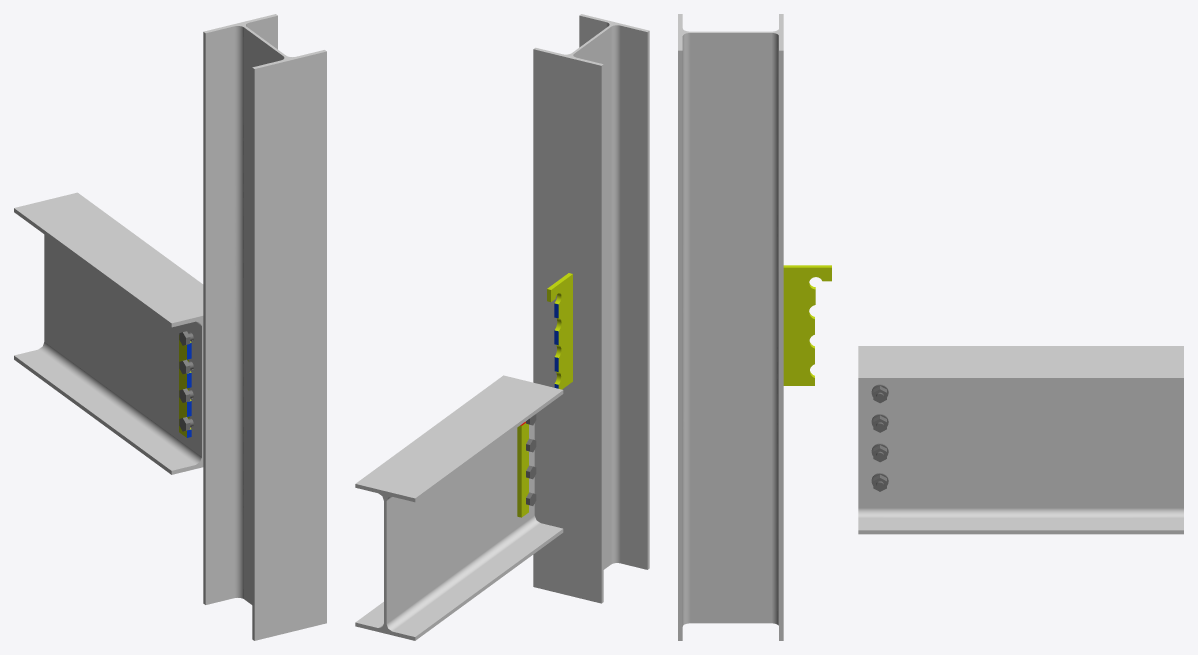
File: 4-Block Shear.glb
3 renders of one model, left to right at view 1: azimuth 30°, elevation 25°; view 2: azimuth 150°, elevation 25°; view 3: azimuth 270°, elevation 25°, orthographic. The views are drawn at different scales.
Visible parts, largest first — view 1: W-Wide Flange-Column W10X33 (1) [1245414], W-Wide Flange W16X36 (1) [1518880], [1715587], [1715589]; view 2: W-Wide Flange-Column W10X33 (1) [1245414], W-Wide Flange W16X36 (1) [1518880], [1717144], [1715587], [1715589]; view 3: W-Wide Flange-Column W10X33 (1) [1245414], W-Wide Flange W16X36 (1) [1518880], [1717144], [1715589].
Part boxes in pixels (box(x1,y1,x2,y2)): W-Wide Flange-Column W10X33 (1) [1245414]: box(203, 14, 326, 640); W-Wide Flange W16X36 (1) [1518880]: box(14, 192, 203, 474); [1715587]: box(179, 335, 191, 437); [1715589]: box(179, 331, 193, 431); W-Wide Flange-Column W10X33 (1) [1245414]: box(533, 14, 649, 603); W-Wide Flange W16X36 (1) [1518880]: box(355, 375, 563, 640); [1717144]: box(547, 273, 572, 389); [1715587]: box(517, 421, 528, 517); [1715589]: box(526, 414, 536, 505); W-Wide Flange-Column W10X33 (1) [1245414]: box(678, 14, 783, 640); W-Wide Flange W16X36 (1) [1518880]: box(858, 346, 1183, 534); [1717144]: box(783, 265, 831, 385); [1715589]: box(871, 384, 888, 491).
Bounding box in the file's own units: 0.2022 × 1.52 × 1.18.
